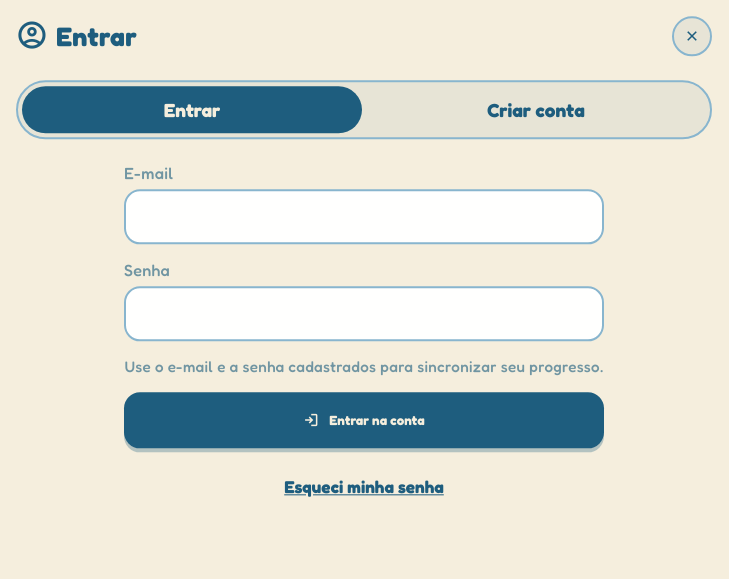
Test case: Auth › mostra a mensagem de erro devolvida pelo backend
In the field labelled "E-mail": [364, 217] box [124,189,604,244], type "jogador@example.com"
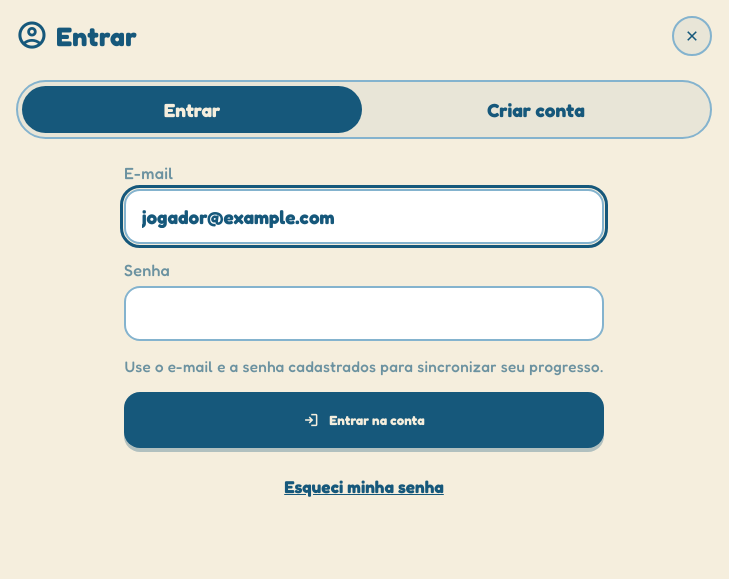
In the password field labelled "Senha": [364, 314] box [124,286,604,341], type "errada123"
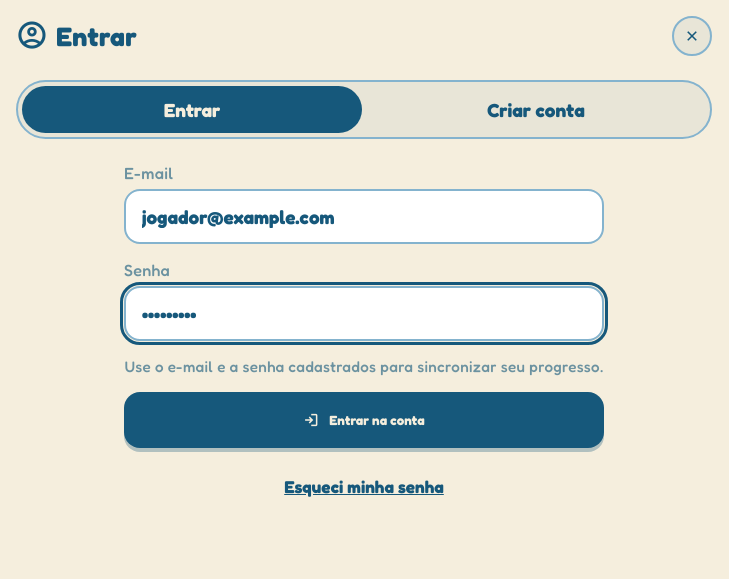
Click the button "Entrar na conta": [364, 420] box [124,392,604,448]
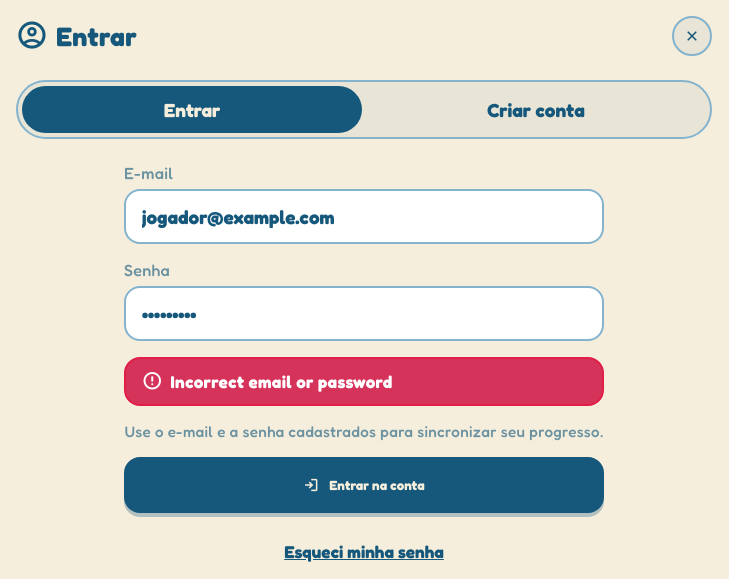
Check: the message reads "Incorrect email or password", box [170,371,392,392]
